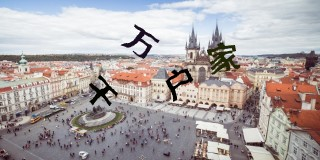万: (121, 23, 160, 61)
千: (89, 74, 119, 110)
家: (207, 41, 241, 75)
户: (165, 69, 193, 101)
